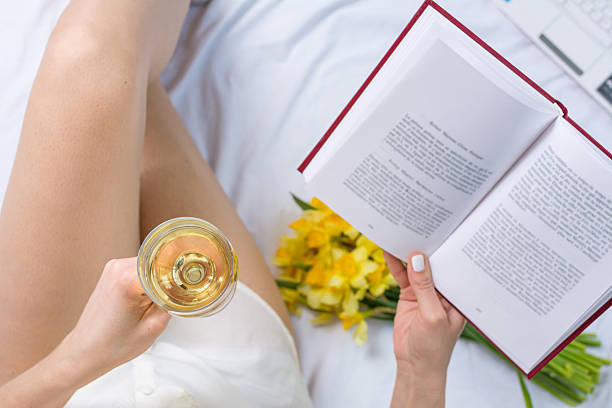book: (292, 2, 612, 382)
